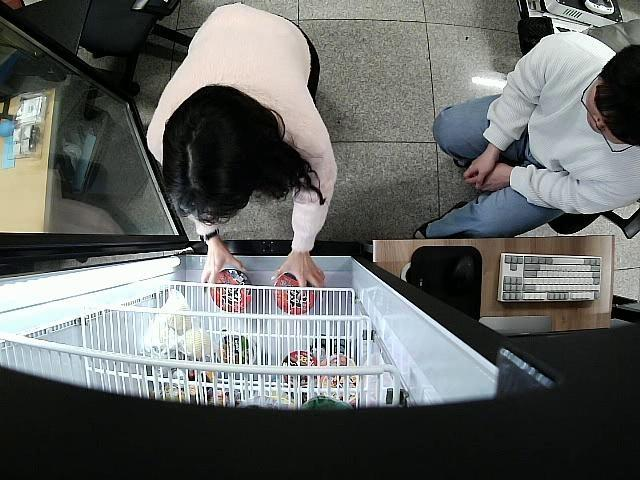01_ShinRamen_L: (209, 270, 253, 310), (274, 272, 315, 314)
